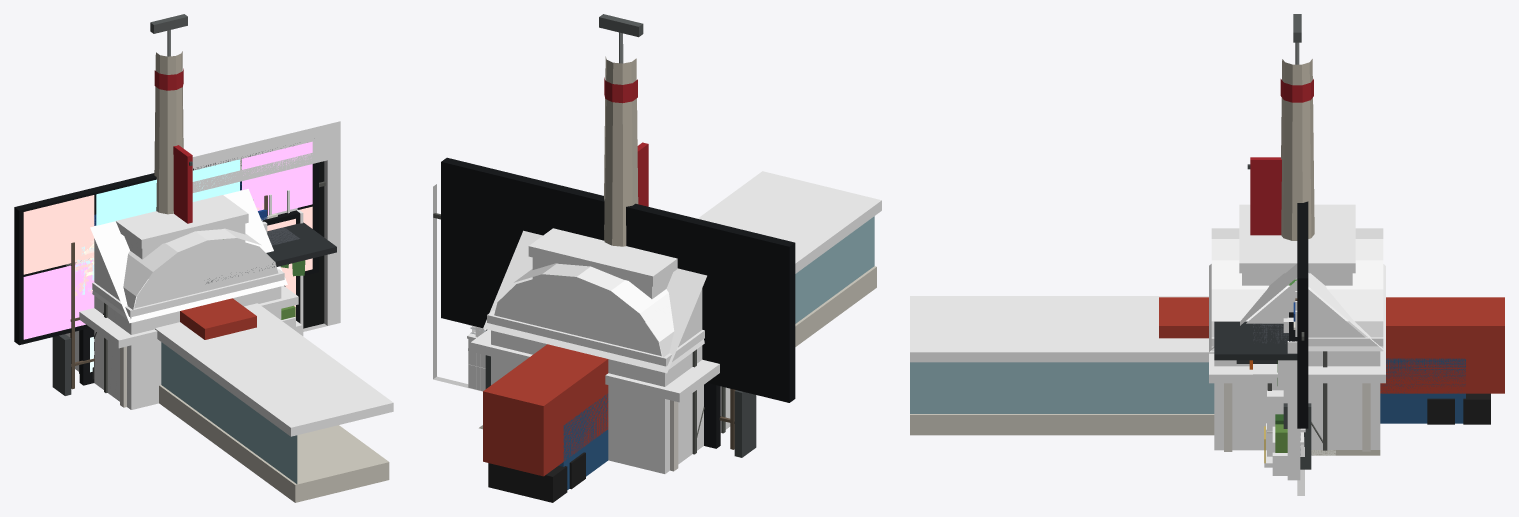
File: kit.glb
3 views of the same model, side by side, from view 1: azimuth 30°, elevation 25°; view 2: azimuth 150°, elevation 25°; view 3: azimuth 270°, elevation 25° (orthographic). The views are drawn at different scales.
Parts seen in each view (by area): view 1: M__SCREEN_glow, M__FB_trim, M__CROWNA_wall, M__FB_wall, M__FB_glass, M__DP0_wall, M__CROWNS_trim, M__SCREEN_detail, M__CROWNP_trim, M__CHIM_wall, M__CROWNA_trim, M__CROWNS_wall (+14 smaller); view 2: M__SCREEN_detail, M__CROWNA_wall, M__TRUCK_detail, M__FB_trim, M__CROWNS_trim, M__CHIM_wall, M__CROWNP_trim, M__FB_glass, M__CROWNS_wall, M__CROWNA_trim, M__PAV_trim, M__CONT_detail (+10 smaller); view 3: M__FB_trim, M__FB_glass, M__TRUCK_detail, M__CROWNA_wall, M__CROWNA_trim, M__FB_wall, M__CROWNS_trim, M__CHIM_wall, M__CONT_detail, M__SCREEN_detail, M__MG1_detail, M__BLADE0_detail (+6 smaller).
Part boxes in pixels (x1,y1,x2,y2): M__SCREEN_glow: (23, 141, 312, 339); M__FB_trim: (155, 303, 393, 436); M__CROWNA_wall: (65, 239, 281, 409); M__FB_wall: (159, 385, 389, 502); M__FB_glass: (161, 342, 297, 483); M__DP0_wall: (192, 121, 340, 331); M__CROWNS_trim: (92, 195, 284, 317); M__SCREEN_detail: (14, 149, 318, 395); M__CROWNP_trim: (90, 189, 287, 323); M__CHIM_wall: (154, 51, 183, 214); M__CROWNA_trim: (92, 228, 261, 319); M__CROWNS_wall: (67, 223, 281, 409); M__SCREEN_detail: (441, 157, 795, 457); M__CROWNA_wall: (491, 275, 730, 473); M__TRUCK_detail: (483, 344, 608, 502); M__FB_trim: (697, 171, 881, 273); M__CROWNS_trim: (487, 228, 704, 366); M__CHIM_wall: (604, 56, 638, 246); M__CROWNP_trim: (483, 230, 706, 373); M__FB_glass: (795, 216, 874, 323); M__CROWNS_wall: (493, 257, 730, 473); M__CROWNA_trim: (514, 263, 704, 369); M__PAV_trim: (470, 330, 719, 402); M__CONT_detail: (559, 394, 608, 489); M__FB_trim: (910, 296, 1214, 362); M__FB_glass: (910, 362, 1214, 413); M__TRUCK_detail: (1159, 297, 1504, 424); M__CROWNA_wall: (1214, 351, 1380, 450); M__CROWNA_trim: (1211, 228, 1383, 351); M__FB_wall: (910, 414, 1214, 435); M__CROWNS_trim: (1211, 204, 1383, 346); M__CHIM_wall: (1281, 59, 1314, 240); M__CONT_detail: (1380, 358, 1465, 423); M__SCREEN_detail: (1283, 201, 1311, 469); M__MG1_detail: (1214, 321, 1297, 360); M__BLADE0_detail: (1247, 157, 1281, 235).
Size of the model in its own units: 15 by 15.58 by 21.5.
